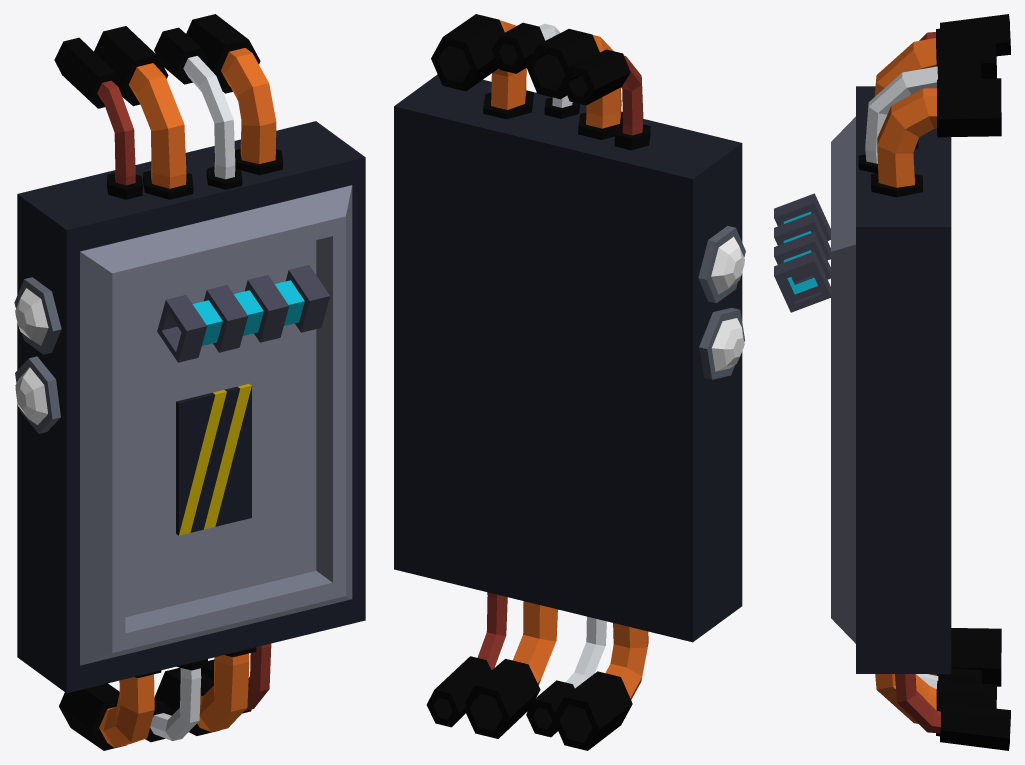
Rendered from Disjoncteur.fbx.
The picture shows the model from 3 angles, left to right: view 1: azimuth 30°, elevation 25°; view 2: azimuth 150°, elevation 25°; view 3: azimuth 270°, elevation 25°; orthographic projection. The views are drawn at different scales.
Parts seen in each view (by area): view 1: Disjoncteur; view 2: Disjoncteur; view 3: Disjoncteur.
Part boxes in pixels (<box>): Disjoncteur: <box>14,14,365,750</box>; Disjoncteur: <box>394,14,745,750</box>; Disjoncteur: <box>774,14,1010,750</box>.
Size of the model in its own units: 30.52 by 64.24 by 20.29.
